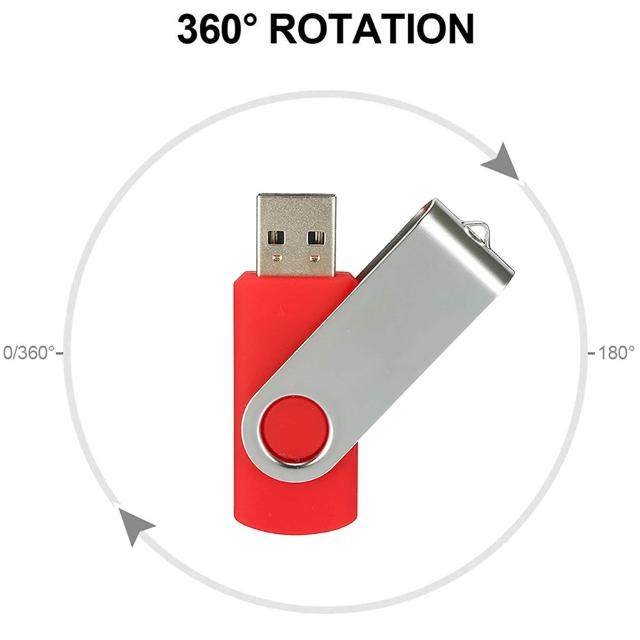USB-Flash-Drive: (234, 195, 362, 536)
